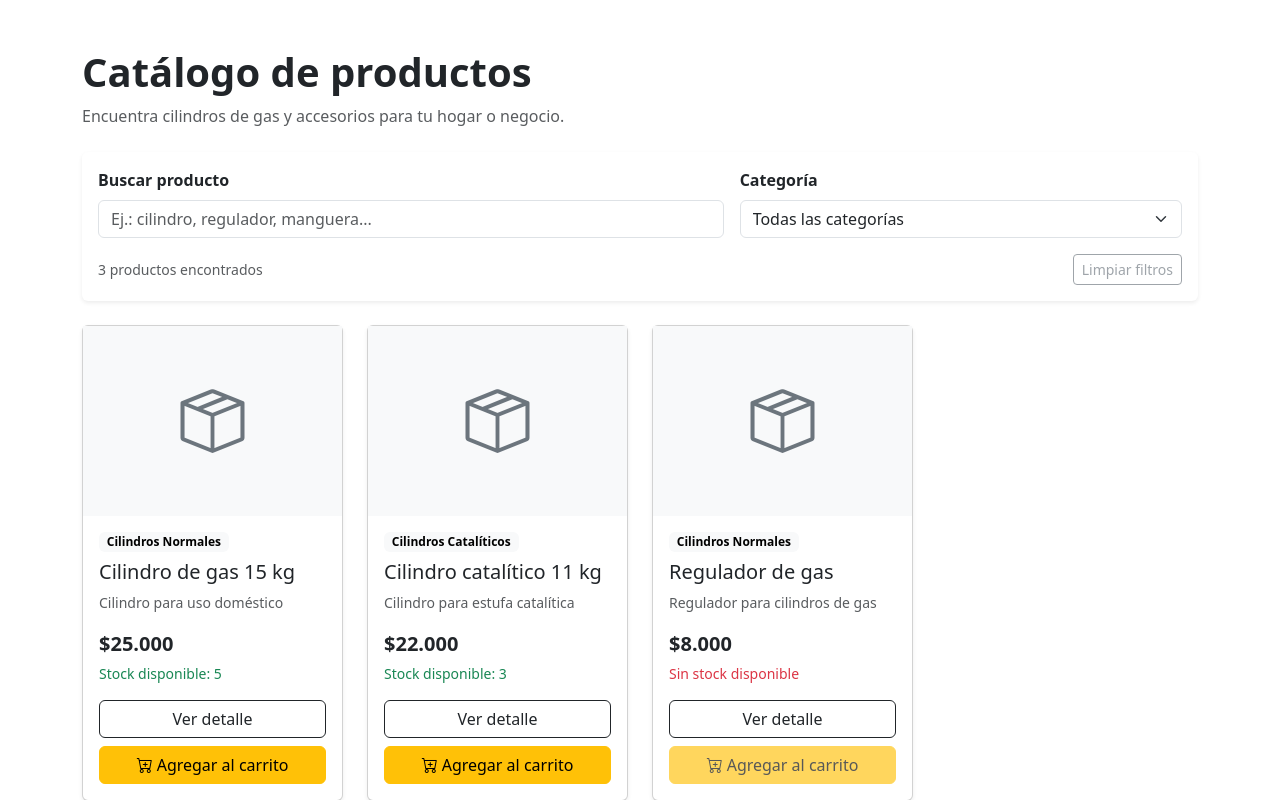
Products › muestra un mensaje cuando no existen coincidencias
Type "producto inexistente" into the search field labelled "Buscar producto". click: (411, 219)
box: [98, 200, 724, 238]
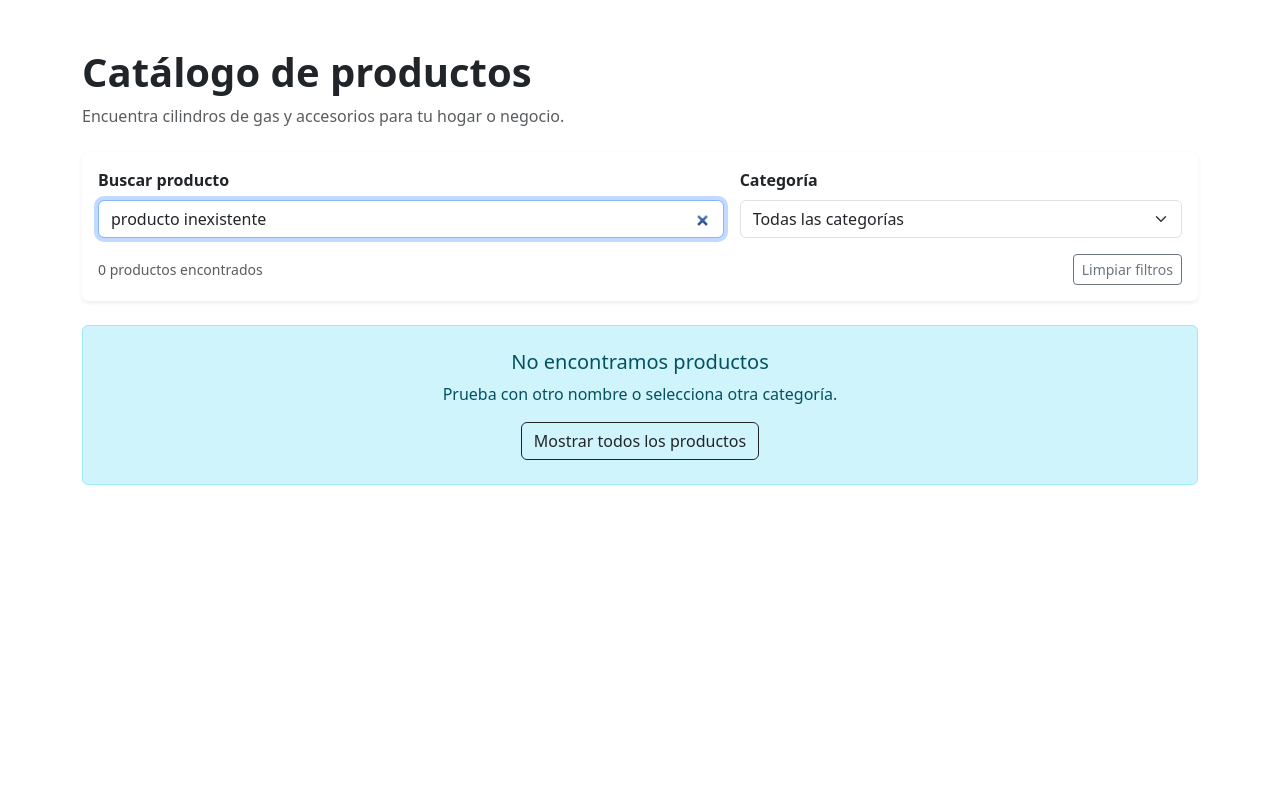
Expected: the heading "No encontramos productos" is shown, [511, 348, 769, 375]
Expected: the button "Mostrar todos los productos" is shown, [521, 422, 759, 460]
